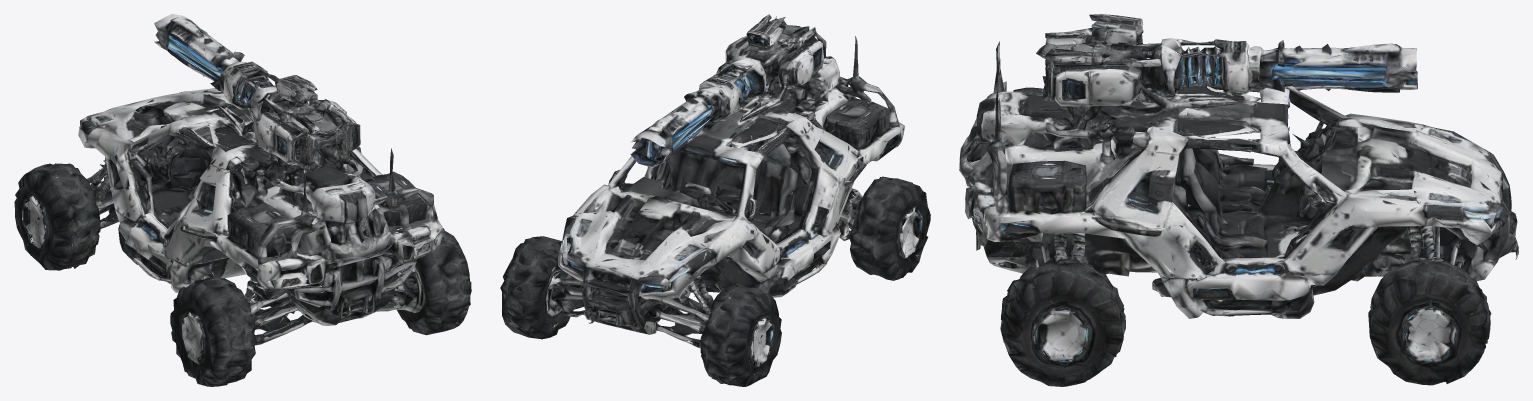
Rendered from hog-rail.glb.
3 views of the same model, side by side, from view 1: azimuth 30°, elevation 25°; view 2: azimuth 150°, elevation 25°; view 3: azimuth 270°, elevation 25° (orthographic). The views are drawn at different scales.
Parts seen in each view (by area): view 1: body_mesh, gun_mesh; view 2: body_mesh, gun_mesh; view 3: body_mesh, gun_mesh.
Part boxes in pixels (x1,y1,x2,y2): body_mesh: (14,42,471,386); gun_mesh: (154,14,360,167); body_mesh: (500,16,930,386); gun_mesh: (630,14,826,164); body_mesh: (959,41,1518,386); gun_mesh: (1036,14,1416,110).
Size of the model in its own units: 3.37 by 3.19 by 5.36.
2 materials, 2 textured.
